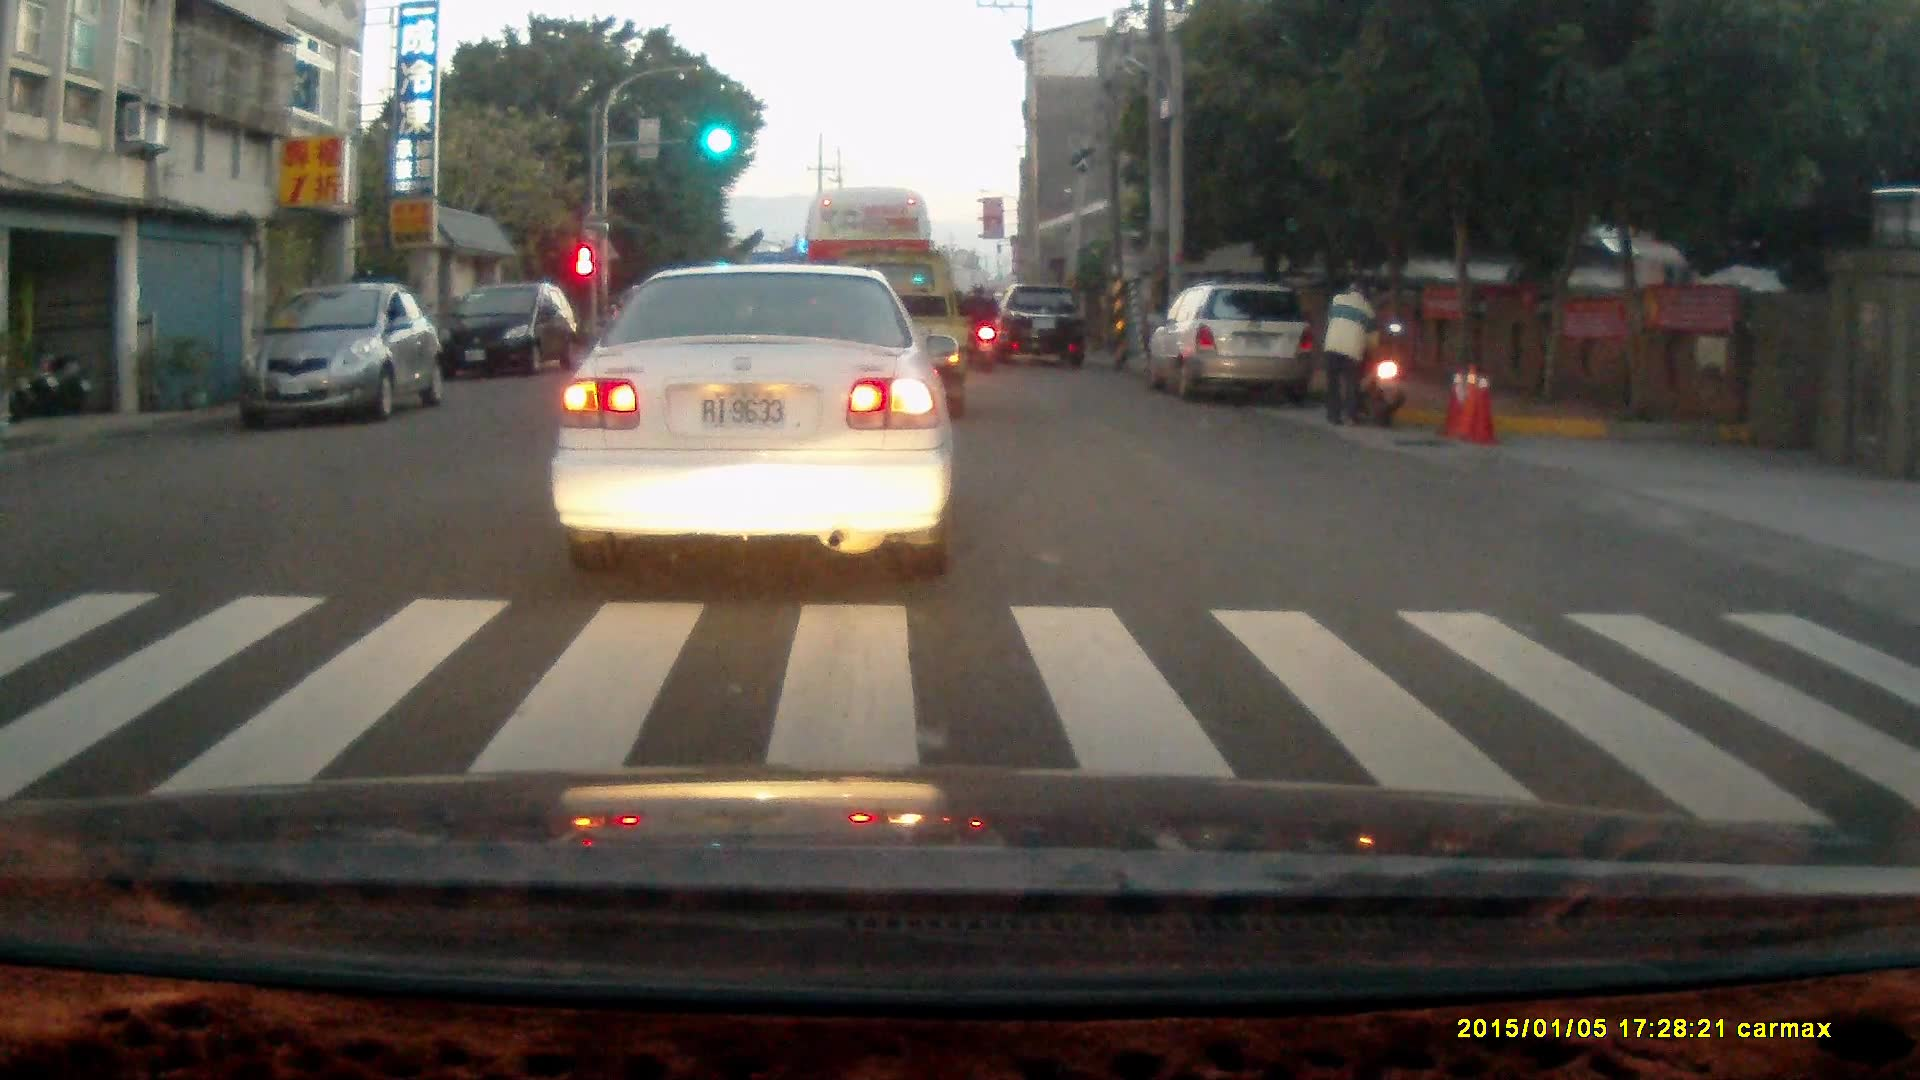pedestrian: (1322, 283, 1383, 432)
rider: (955, 279, 999, 369)
vehicle: (552, 264, 952, 577), (233, 281, 453, 429), (800, 185, 937, 395), (1153, 287, 1315, 402), (438, 281, 578, 386), (996, 288, 1093, 369)
